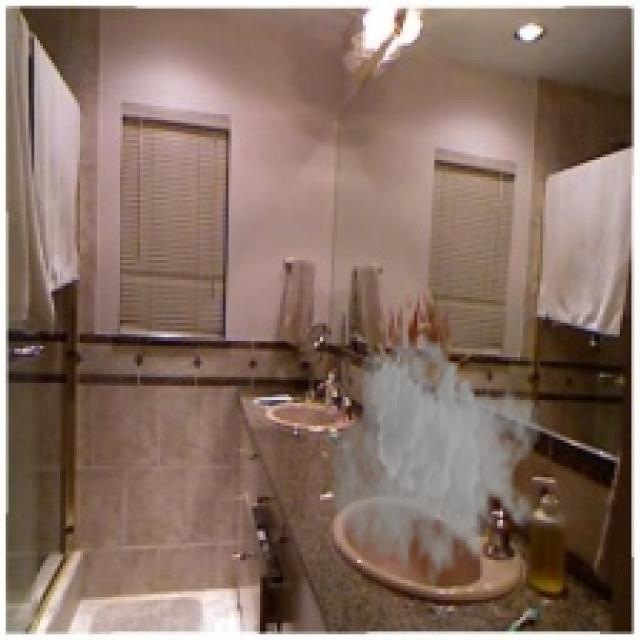smoke: (328, 323, 543, 600)
